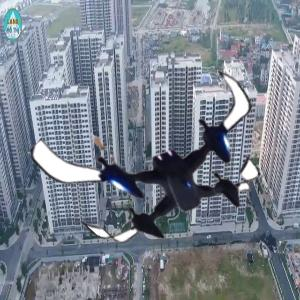drone: (60, 53, 279, 272)
